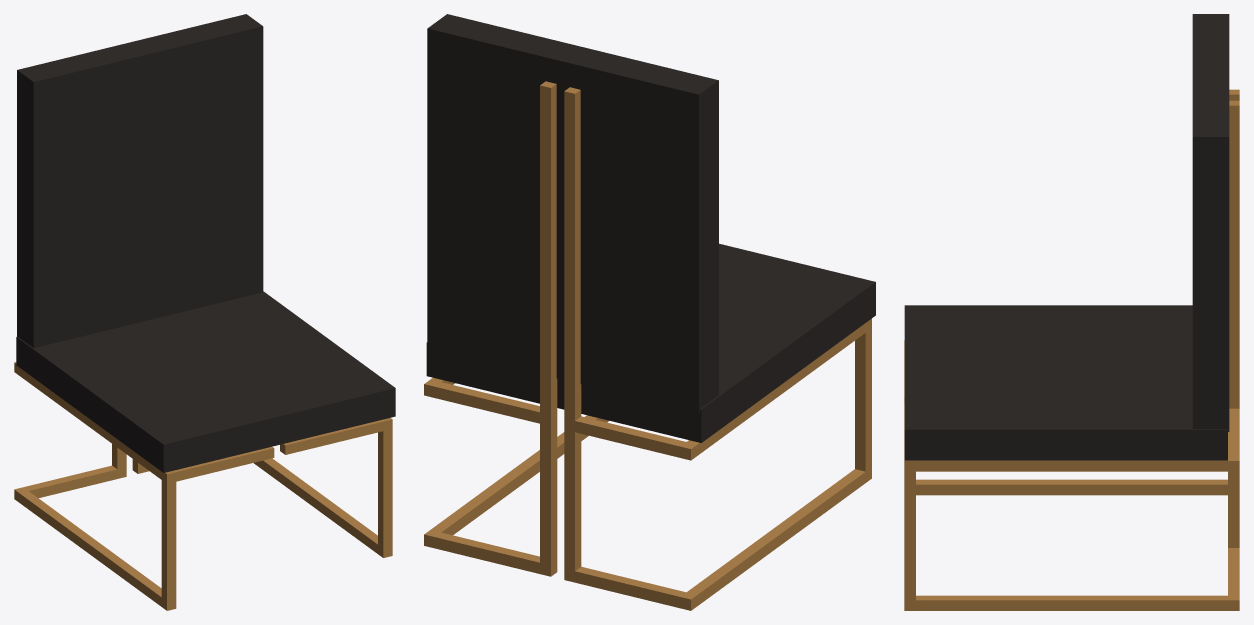
3 renders of one model, left to right at view 1: azimuth 30°, elevation 25°; view 2: azimuth 150°, elevation 25°; view 3: azimuth 270°, elevation 25°, orthographic. The views are drawn at different scales.
Parts seen in each view (by area): view 1: chair; view 2: chair; view 3: chair.
Part boxes in pixels (x1,y1,x2,y2): chair: (14,14,395,610); chair: (424,14,875,610); chair: (904,14,1239,610).
Bounding box in the file's own units: 0.5048 × 0.9 × 0.576.
